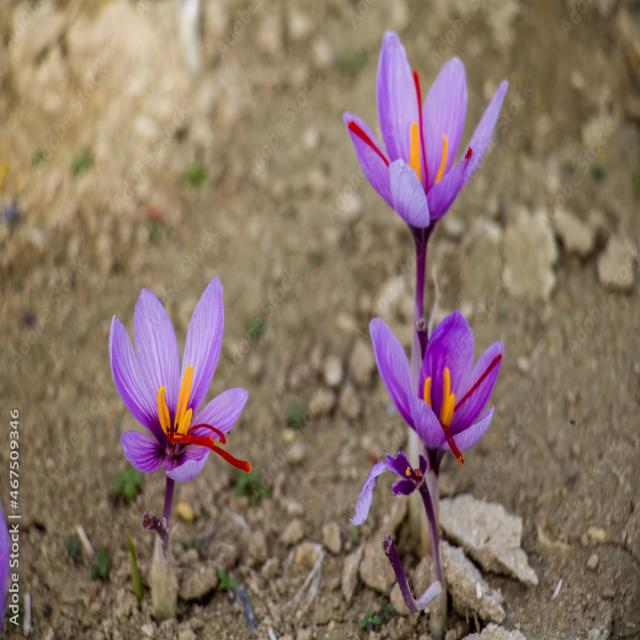saffron open: (342, 32, 508, 324), (110, 277, 250, 549), (370, 311, 504, 474)
